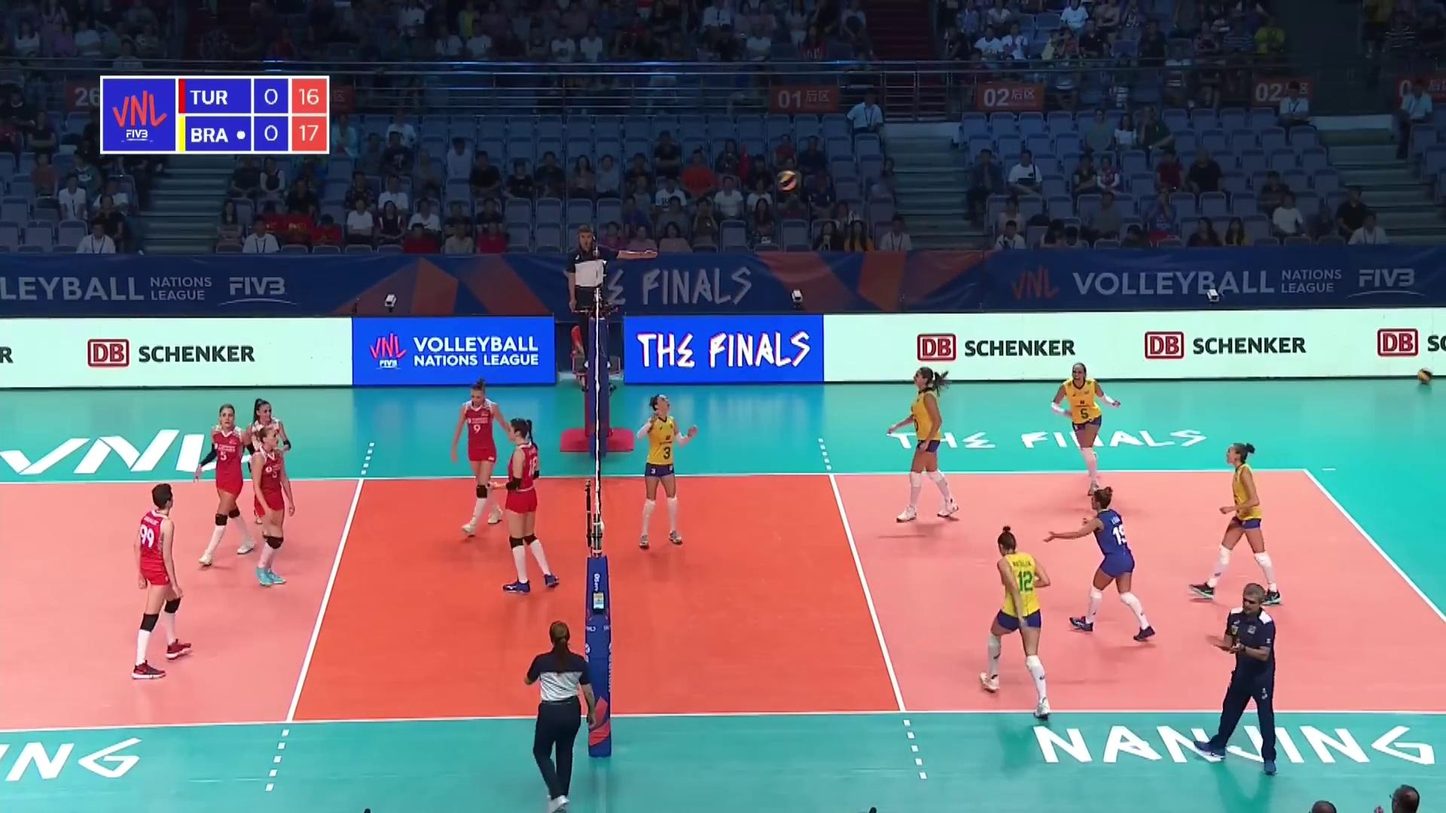player: (1046, 492, 1159, 642), (975, 528, 1052, 714), (133, 484, 198, 682), (1199, 443, 1277, 599), (491, 421, 561, 594), (892, 367, 963, 524), (450, 380, 520, 538), (196, 403, 258, 571), (1052, 364, 1119, 507), (634, 395, 695, 549), (240, 400, 295, 548), (254, 421, 300, 590)
refree: (523, 625, 596, 808), (569, 227, 631, 366)
